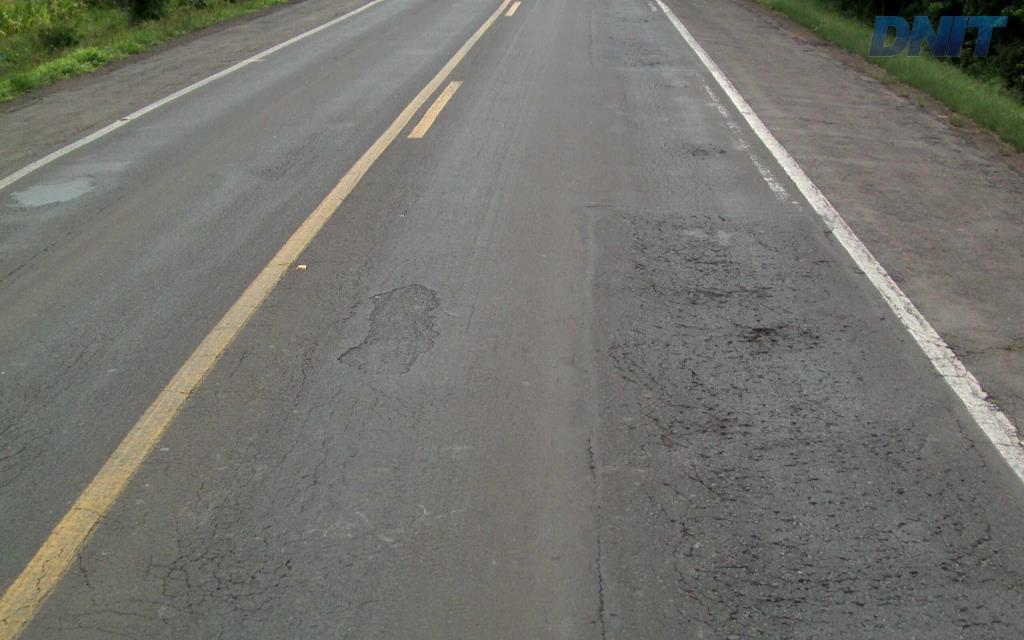crack: (679, 529, 861, 639), (644, 413, 750, 448), (933, 535, 991, 587), (684, 463, 746, 502), (732, 320, 794, 356), (766, 610, 830, 639), (686, 278, 737, 308), (866, 570, 903, 609)
pothole: (328, 278, 443, 381), (735, 321, 796, 355)
